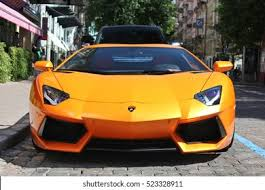Lamborghini: (41, 42, 234, 156)
